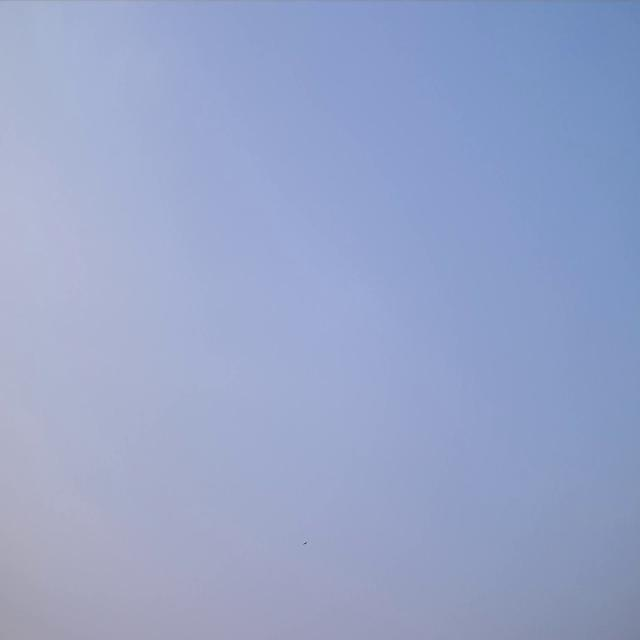UAV: (303, 541, 307, 545)
